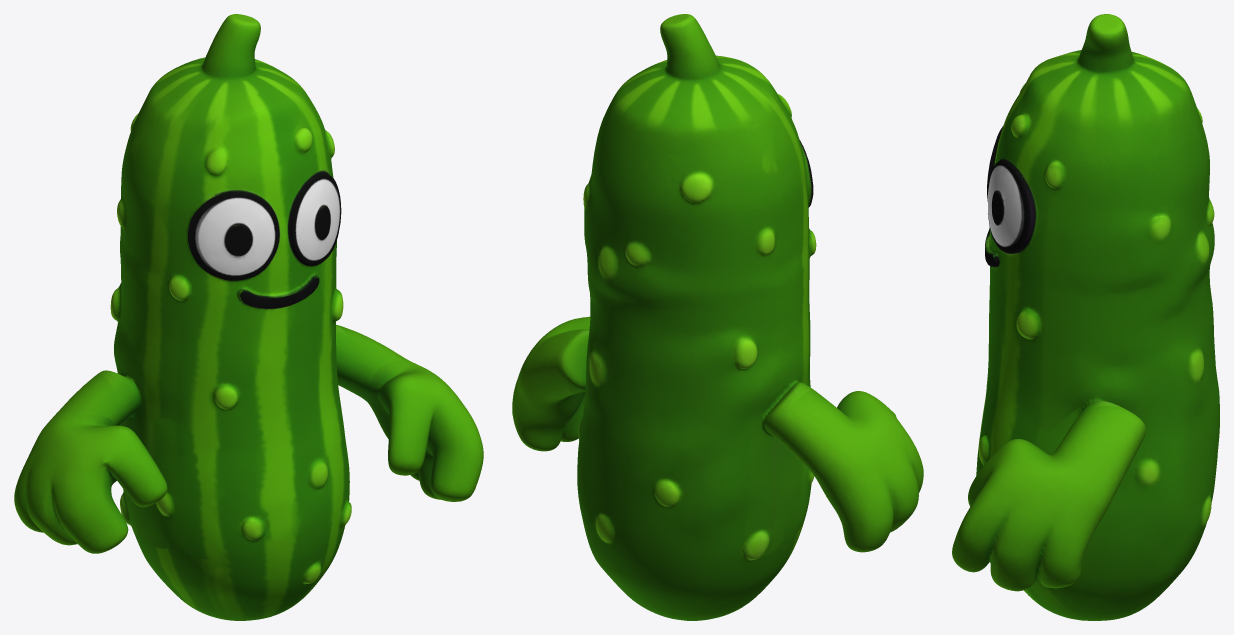
File: player-pickle.glb
3 renders of one model, left to right at view 1: azimuth 30°, elevation 25°; view 2: azimuth 150°, elevation 25°; view 3: azimuth 270°, elevation 25°, orthographic.
Size of the model in its own units: 1.38 by 1.9 by 0.7754.
1 material, 1 textured.
